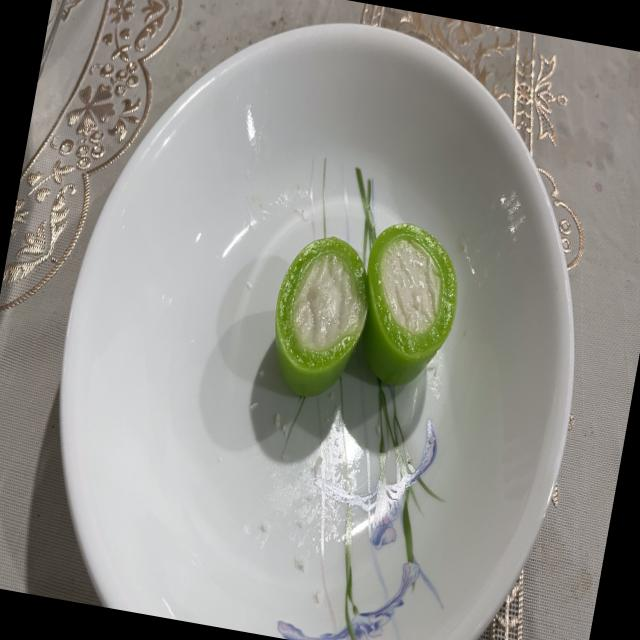nona-manis: (362, 223, 457, 386), (275, 236, 367, 397)
